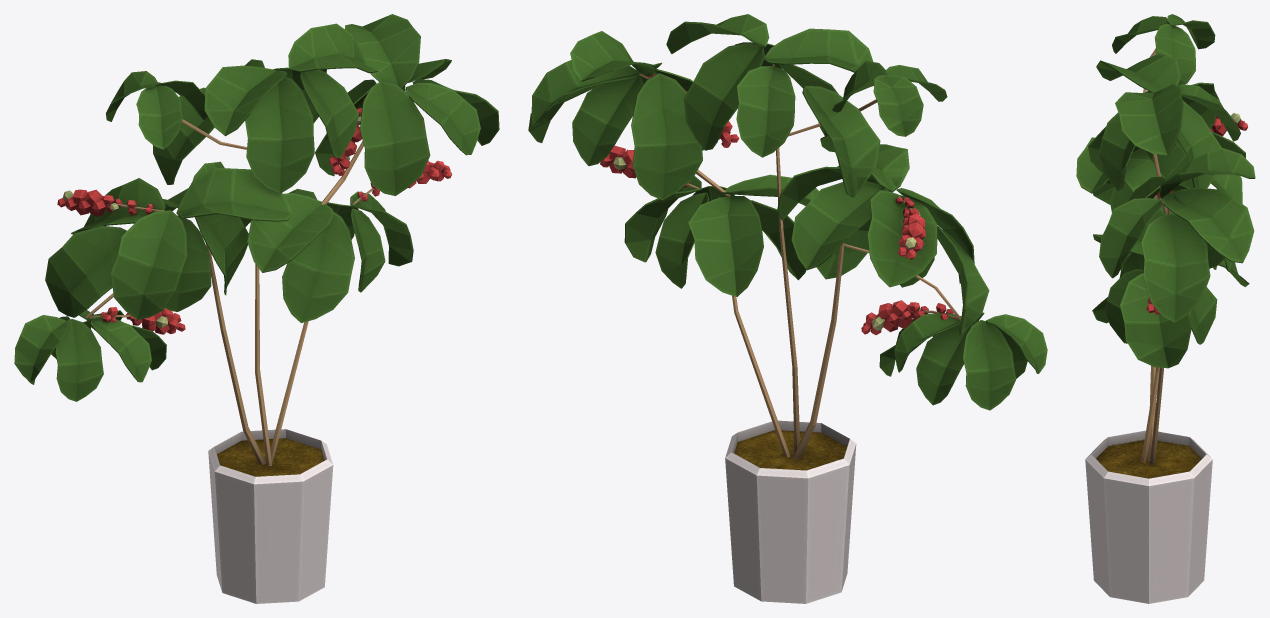
The model's file is cafeeiro.glb.
3 renders of one model, left to right at view 1: azimuth 30°, elevation 25°; view 2: azimuth 150°, elevation 25°; view 3: azimuth 270°, elevation 25°, orthographic. The views are drawn at different scales.
Parts seen in each view (by area): view 1: CoffePlant_mehs; view 2: CoffePlant_mehs; view 3: CoffePlant_mehs.
Boxes of the visible parts, x1,y1,x2,y2 form: CoffePlant_mehs: (14, 14, 499, 603); CoffePlant_mehs: (528, 14, 1047, 603); CoffePlant_mehs: (1076, 14, 1255, 603).
Bounding box in the file's own units: 8.47 × 8.99 × 2.81.
1 material, 1 textured.
